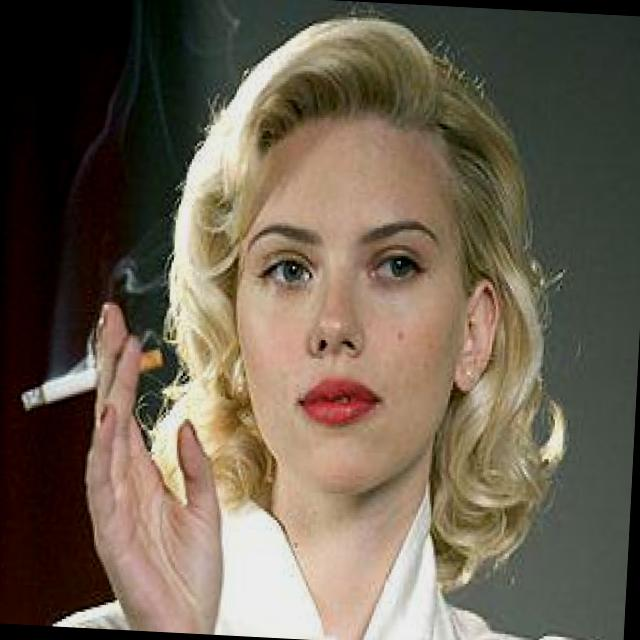smoke: (13, 298, 178, 448)
